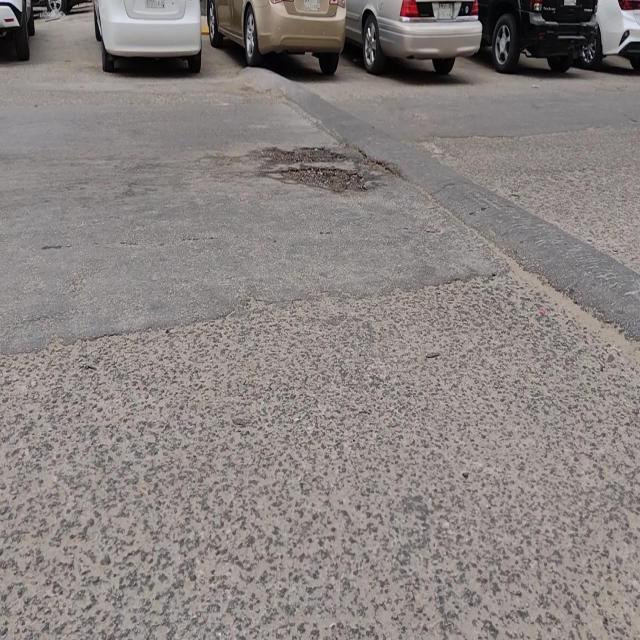Pothole: (256, 147, 364, 194)
